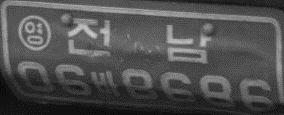0: (16, 60, 55, 94)
6: (238, 77, 274, 113), (55, 63, 91, 97), (160, 70, 195, 103)
8: (199, 74, 236, 110), (123, 69, 159, 101)
바: (92, 70, 121, 99)
영: (17, 14, 52, 51)
전남_D: (66, 16, 212, 64)
